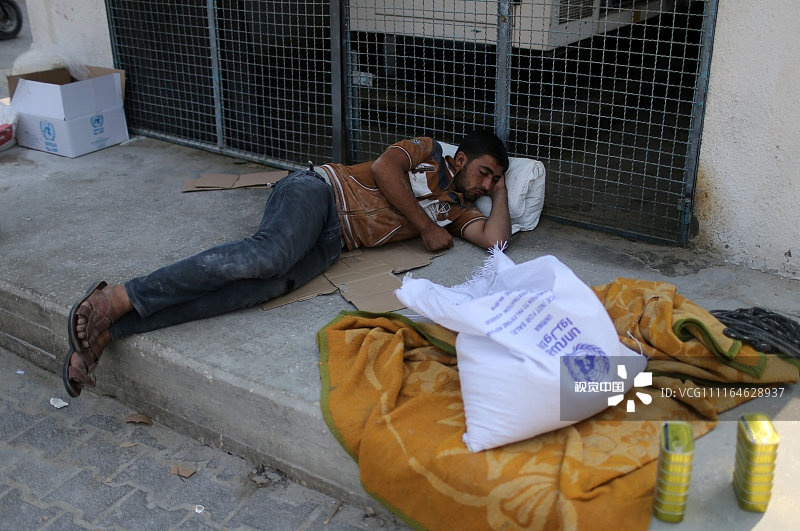falling: (43, 114, 527, 373)
